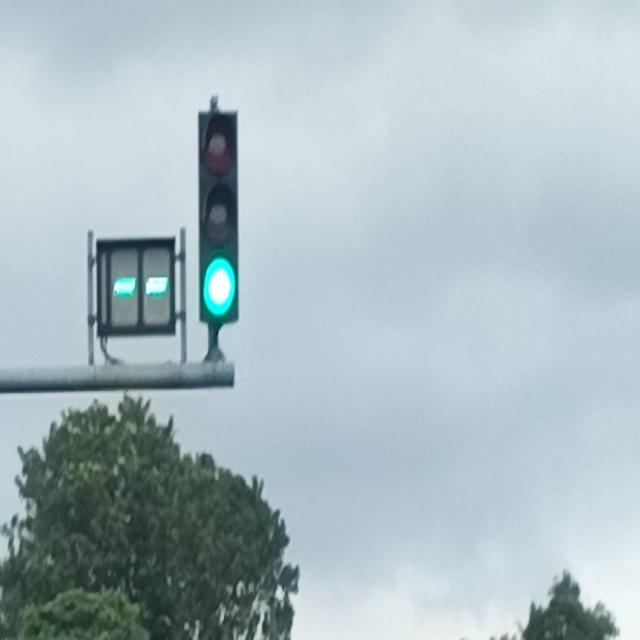traffic light: (197, 110, 240, 325)
